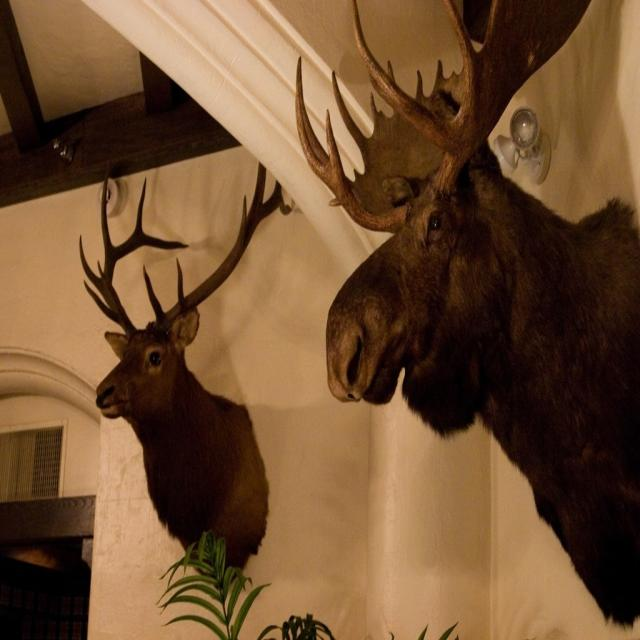Deer: (294, 0, 639, 634), (79, 156, 292, 590)
